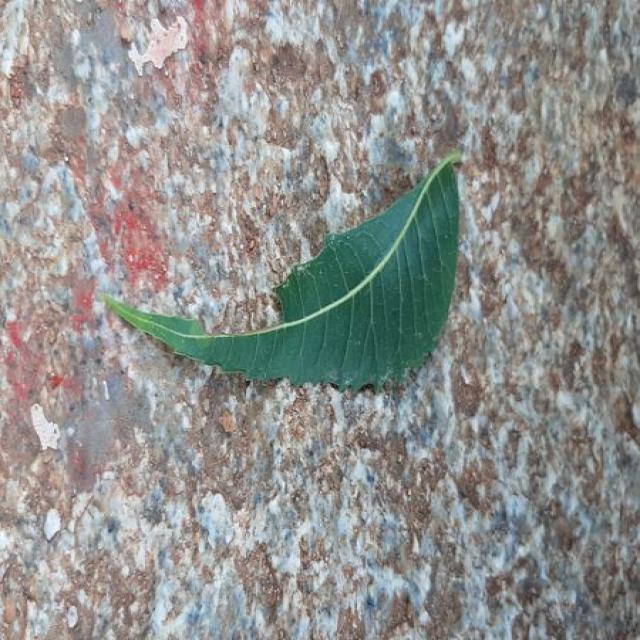neem: (103, 155, 458, 389)
